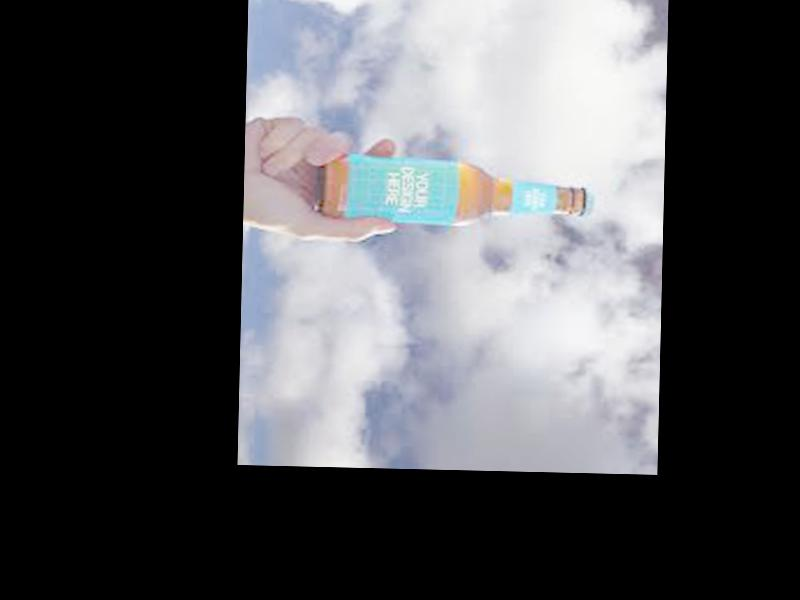Beer: (318, 159, 593, 229)
